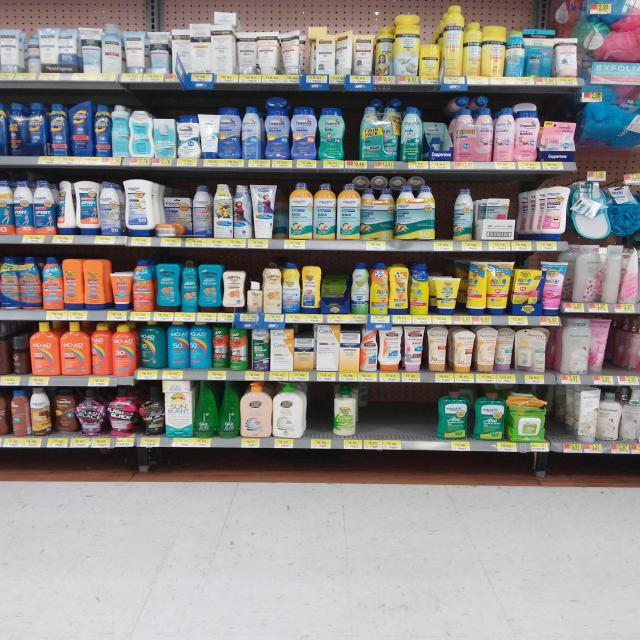empty_space: (380, 387, 432, 435), (308, 389, 334, 439), (438, 195, 456, 238), (549, 406, 567, 443)
